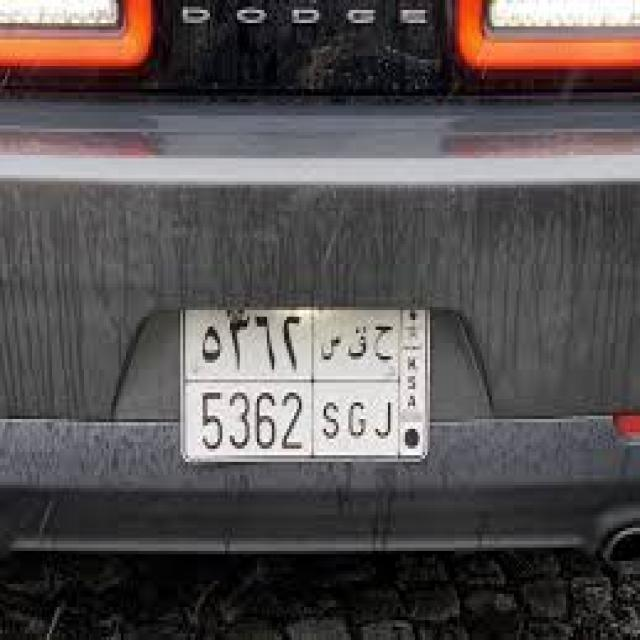license_plate: (180, 303, 432, 462)
